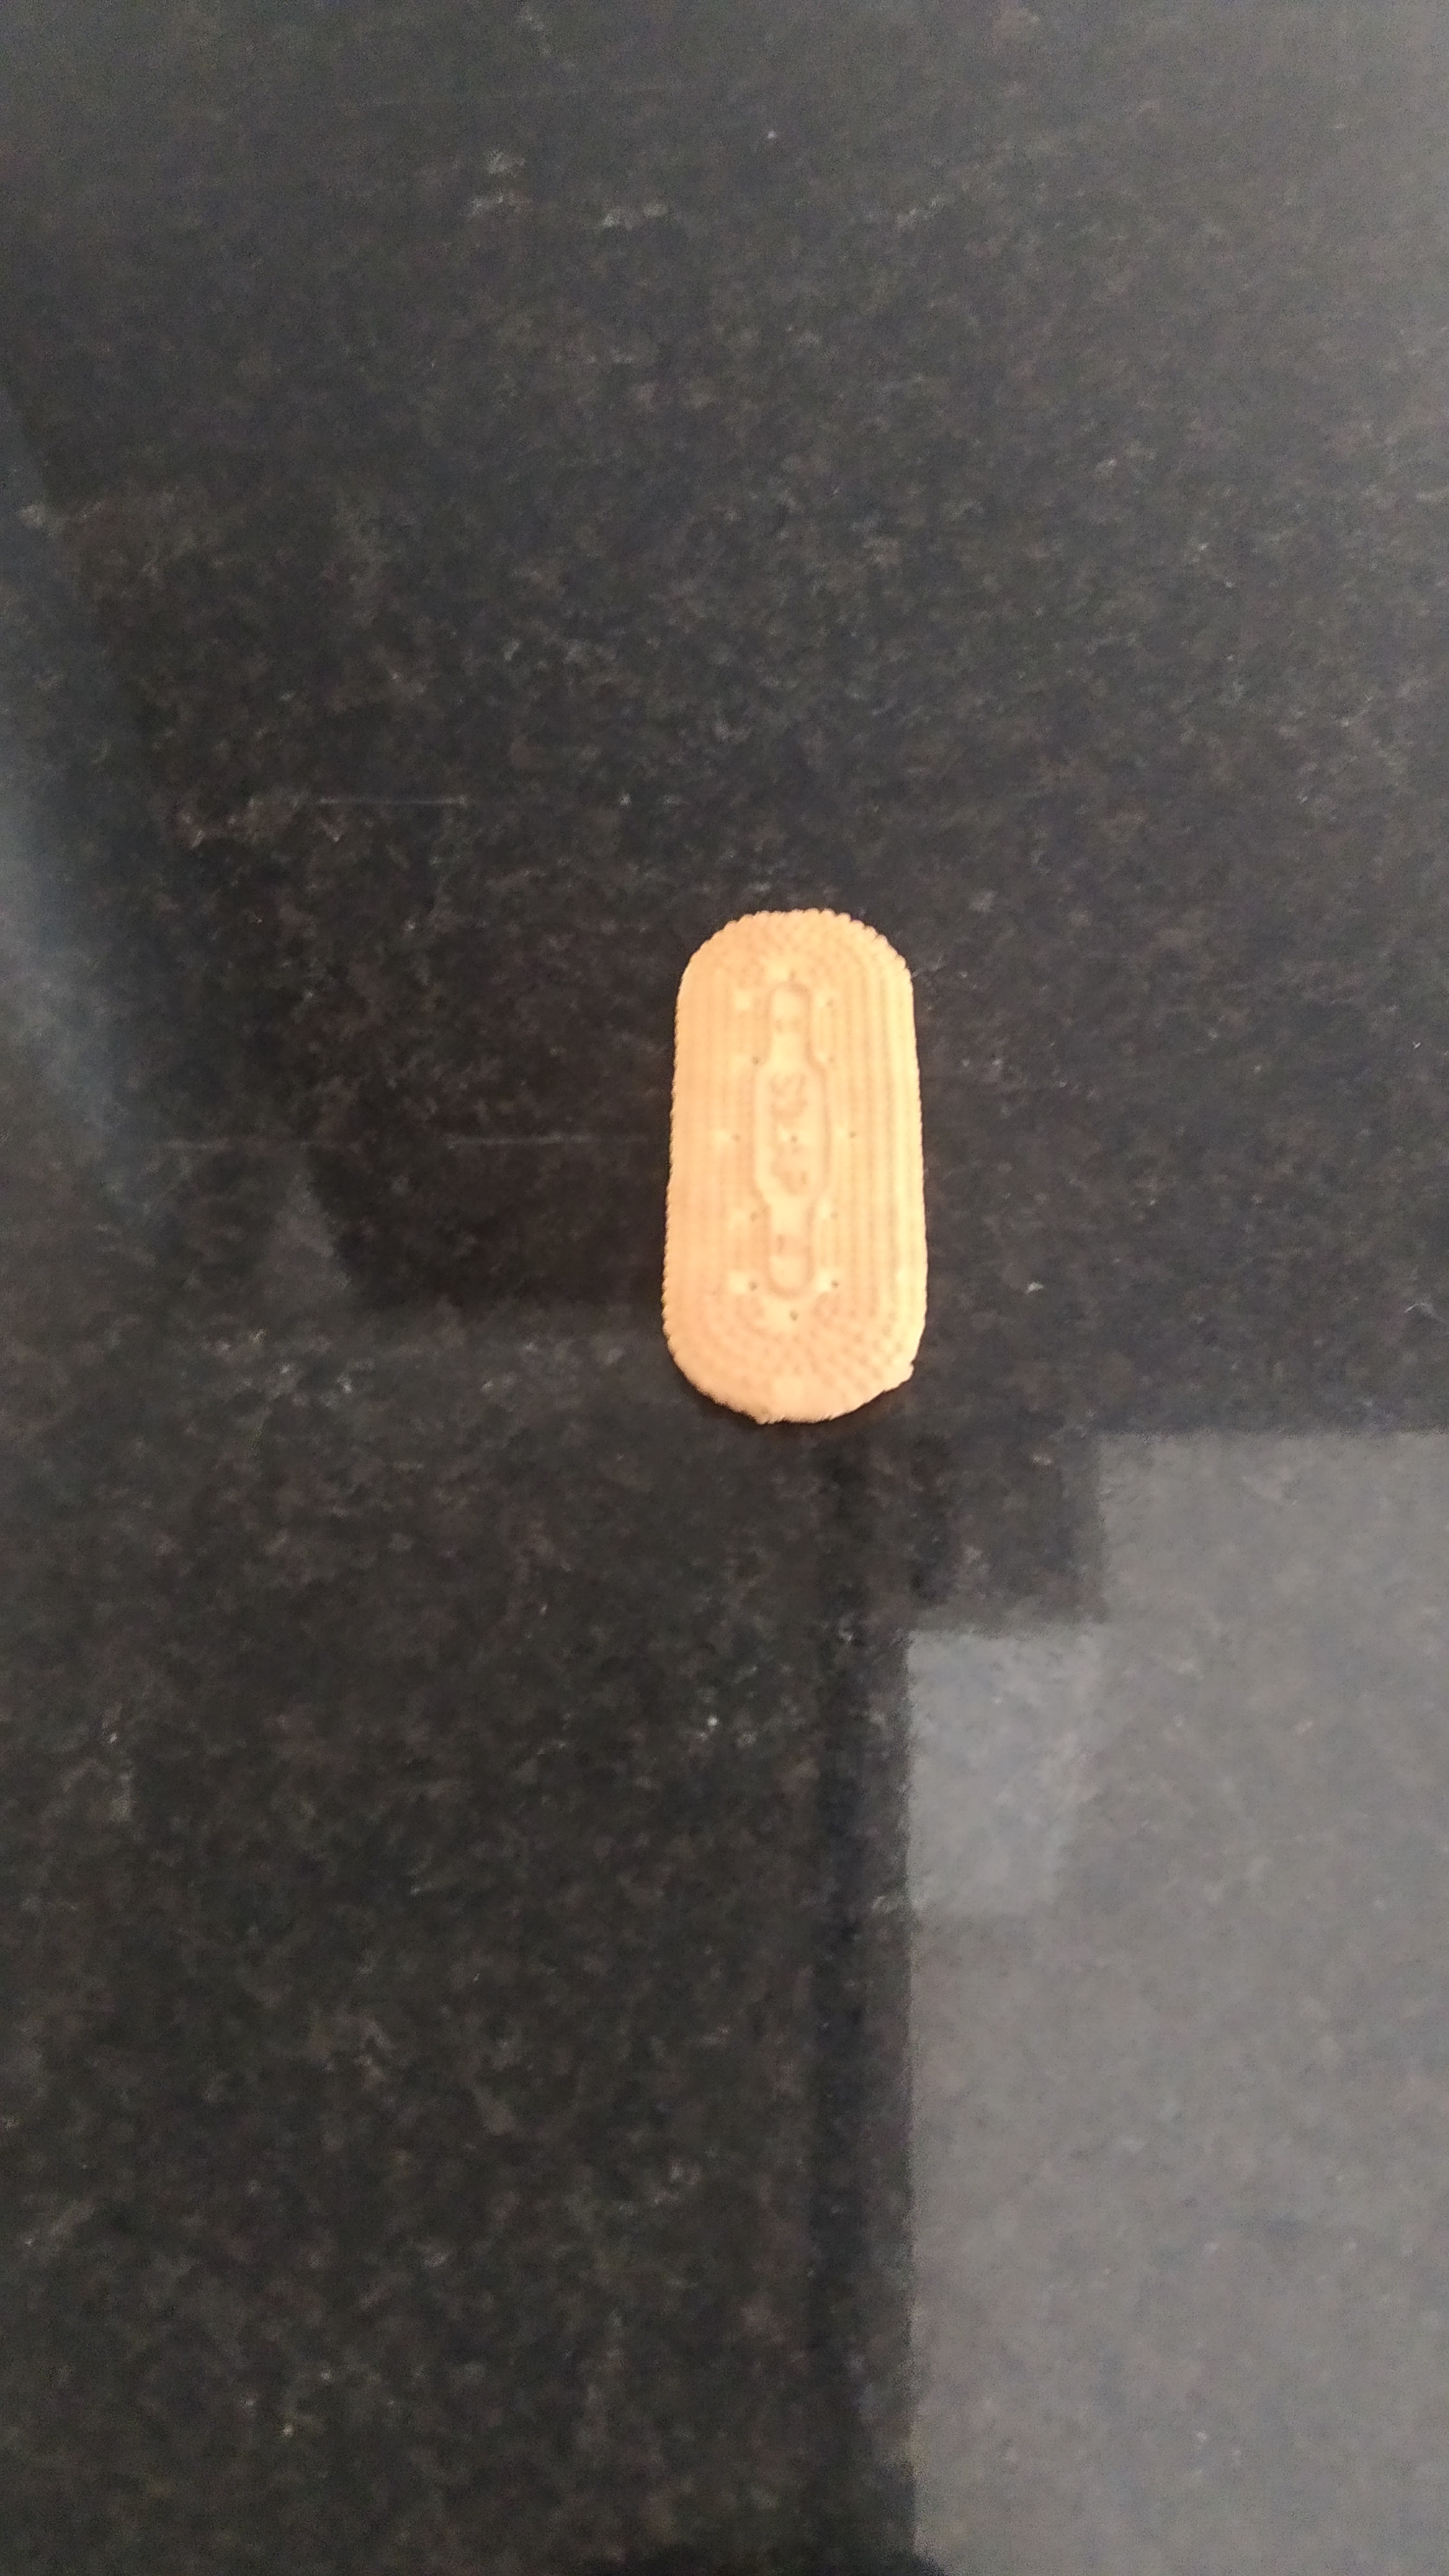solar: (660, 908, 927, 1428)
